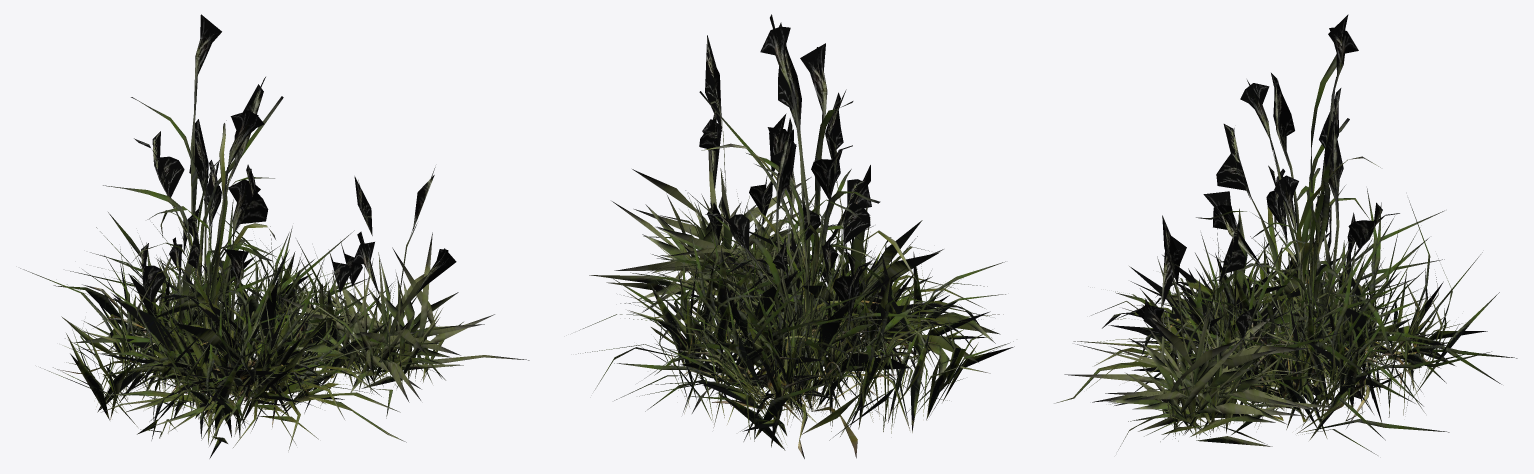
Rendered from grass_medium_01.glb.
3 renders of one model, left to right at view 1: azimuth 30°, elevation 25°; view 2: azimuth 150°, elevation 25°; view 3: azimuth 270°, elevation 25°, orthographic. The views are drawn at different scales.
Parts seen in each view (by area): view 1: grass_medium_01_grass_medium_01_large_a, grass_medium_01_grass_medium_01_large_b, grass_medium_01_grass_medium_01_mid_a, grass_medium_01_grass_medium_01_large_c, grass_medium_01_grass_medium_01_tall_b, grass_medium_01_grass_medium_01_tall_a, grass_medium_01_grass_medium_01_tall_c, grass_medium_01_grass_medium_01_mid_c, grass_medium_01_grass_medium_01_mid_b; view 2: grass_medium_01_grass_medium_01_large_a, grass_medium_01_grass_medium_01_mid_a, grass_medium_01_grass_medium_01_large_c, grass_medium_01_grass_medium_01_large_b, grass_medium_01_grass_medium_01_tall_a, grass_medium_01_grass_medium_01_mid_c, grass_medium_01_grass_medium_01_tall_b, grass_medium_01_grass_medium_01_mid_b, grass_medium_01_grass_medium_01_tall_c; view 3: grass_medium_01_grass_medium_01_mid_a, grass_medium_01_grass_medium_01_large_a, grass_medium_01_grass_medium_01_large_c, grass_medium_01_grass_medium_01_large_b, grass_medium_01_grass_medium_01_tall_a, grass_medium_01_grass_medium_01_tall_b, grass_medium_01_grass_medium_01_tall_c, grass_medium_01_grass_medium_01_mid_c, grass_medium_01_grass_medium_01_mid_b.
Part boxes in pixels (x1,y1,x2,y2): grass_medium_01_grass_medium_01_large_a: [20, 199, 370, 458]; grass_medium_01_grass_medium_01_large_b: [74, 241, 406, 450]; grass_medium_01_grass_medium_01_mid_a: [276, 167, 529, 418]; grass_medium_01_grass_medium_01_large_c: [104, 226, 437, 418]; grass_medium_01_grass_medium_01_tall_b: [131, 77, 275, 364]; grass_medium_01_grass_medium_01_tall_a: [103, 14, 283, 363]; grass_medium_01_grass_medium_01_tall_c: [138, 119, 309, 382]; grass_medium_01_grass_medium_01_mid_c: [82, 212, 292, 358]; grass_medium_01_grass_medium_01_mid_b: [59, 197, 260, 428]; grass_medium_01_grass_medium_01_large_a: [578, 192, 1014, 450]; grass_medium_01_grass_medium_01_mid_a: [589, 35, 837, 339]; grass_medium_01_grass_medium_01_large_c: [579, 188, 942, 414]; grass_medium_01_grass_medium_01_large_b: [703, 200, 1005, 401]; grass_medium_01_grass_medium_01_tall_a: [699, 14, 880, 364]; grass_medium_01_grass_medium_01_mid_c: [614, 245, 884, 441]; grass_medium_01_grass_medium_01_tall_b: [701, 22, 917, 399]; grass_medium_01_grass_medium_01_mid_b: [669, 194, 915, 458]; grass_medium_01_grass_medium_01_tall_c: [731, 118, 886, 400]; grass_medium_01_grass_medium_01_mid_a: [1064, 215, 1346, 451]; grass_medium_01_grass_medium_01_large_a: [1108, 185, 1499, 455]; grass_medium_01_grass_medium_01_large_c: [1154, 231, 1467, 440]; grass_medium_01_grass_medium_01_large_b: [1054, 208, 1358, 422]; grass_medium_01_grass_medium_01_tall_a: [1196, 14, 1399, 359]; grass_medium_01_grass_medium_01_tall_b: [1210, 73, 1380, 332]; grass_medium_01_grass_medium_01_tall_c: [1203, 111, 1368, 383]; grass_medium_01_grass_medium_01_mid_c: [1271, 188, 1517, 413]; grass_medium_01_grass_medium_01_mid_b: [1246, 191, 1448, 428].
Bounding box in the file's own units: 0.9427 × 0.8386 × 0.9354.
1 material, 1 textured.
